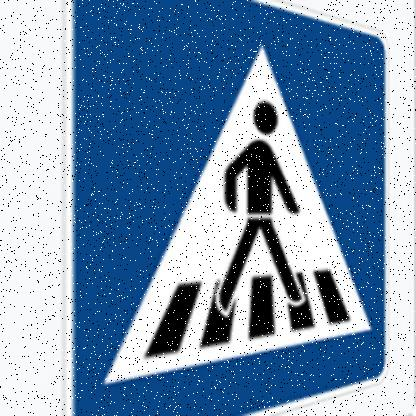Pedestrian Crossing: (61, 1, 394, 415)
